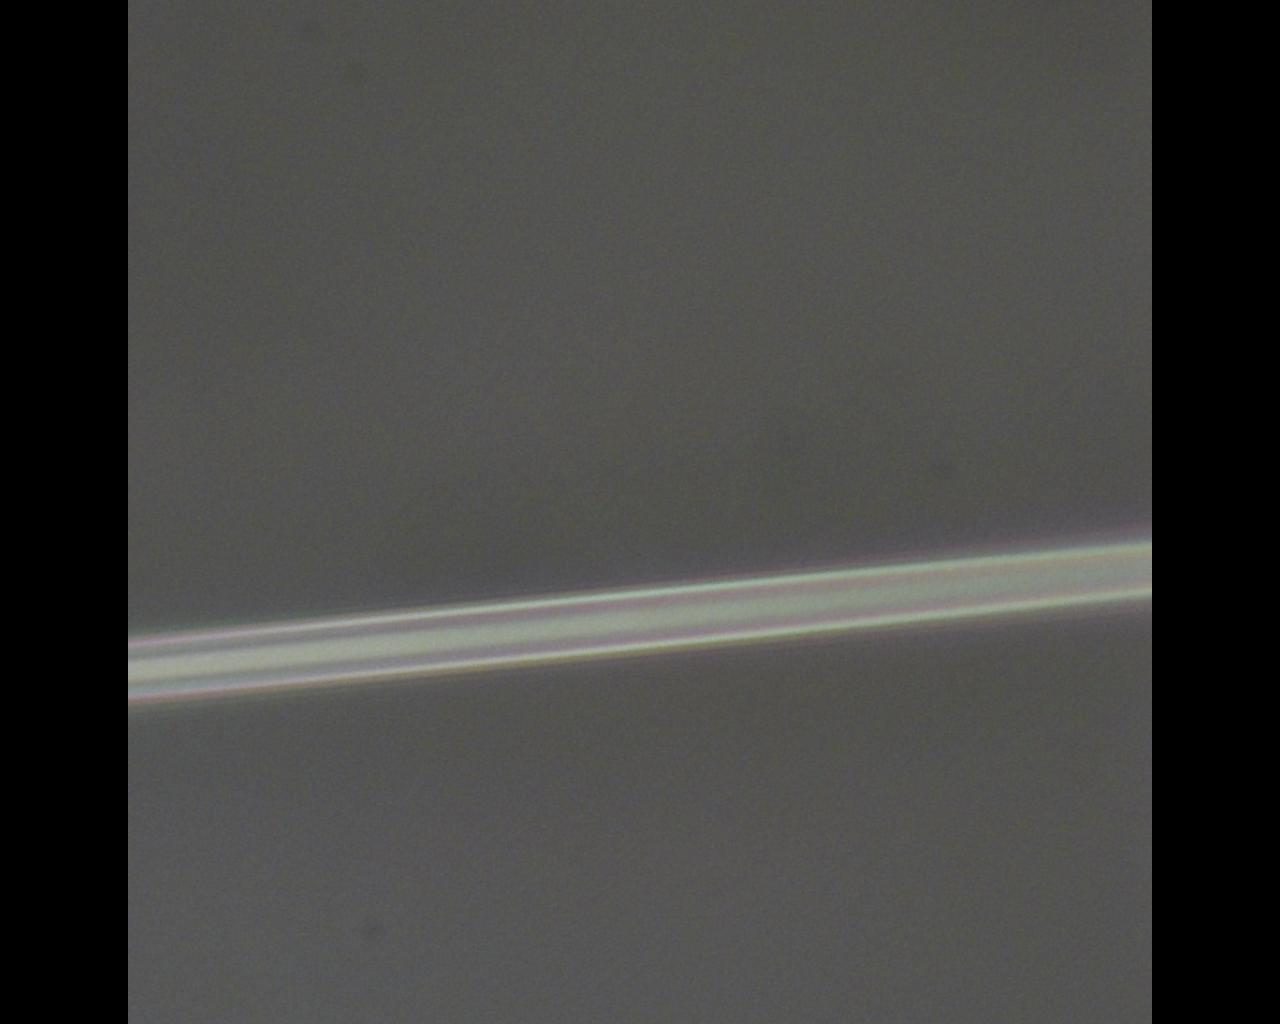fiber: (350, 0, 614, 481), (1083, 481, 1280, 1024), (0, 481, 180, 1024)
